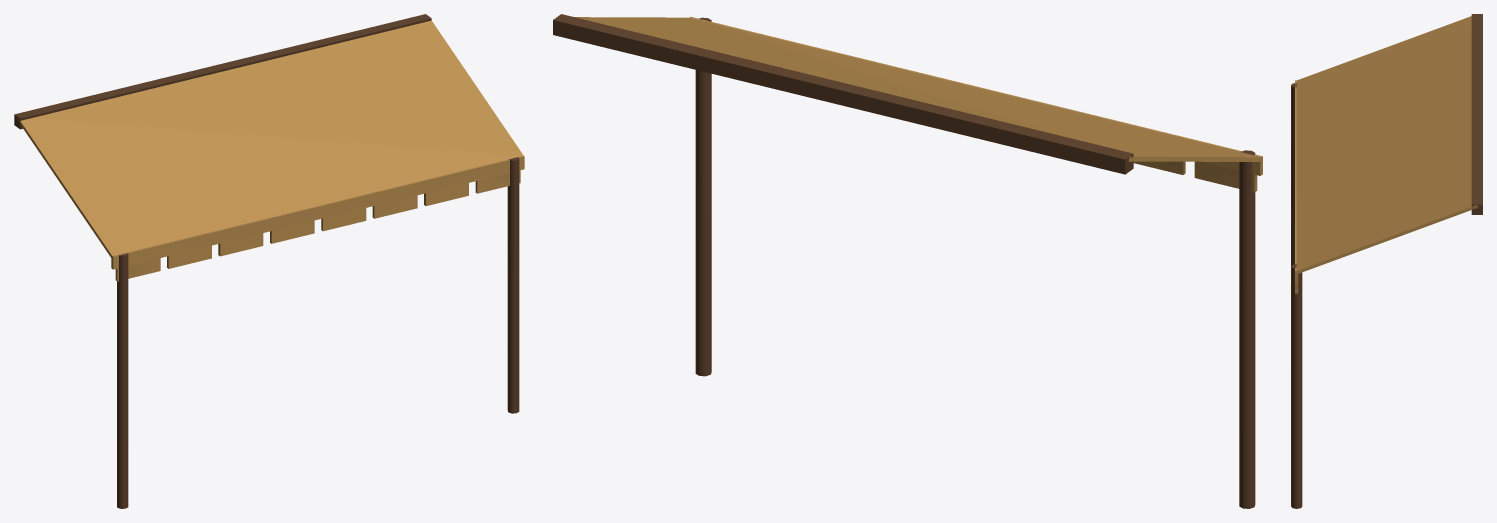
The model's file is rome_awning.glb.
The picture shows the model from 3 angles, left to right: view 1: azimuth 30°, elevation 25°; view 2: azimuth 150°, elevation 25°; view 3: azimuth 270°, elevation 25°; orthographic projection. The views are drawn at different scales.
Visible parts, largest first — view 1: rome_awning; view 2: rome_awning; view 3: rome_awning.
Boxes of the visible parts, x1,y1,x2,y2 form: rome_awning: (14, 14, 524, 508); rome_awning: (553, 14, 1262, 508); rome_awning: (1291, 14, 1482, 508).
Bounding box in the file's own units: 4 × 3 × 1.7.
